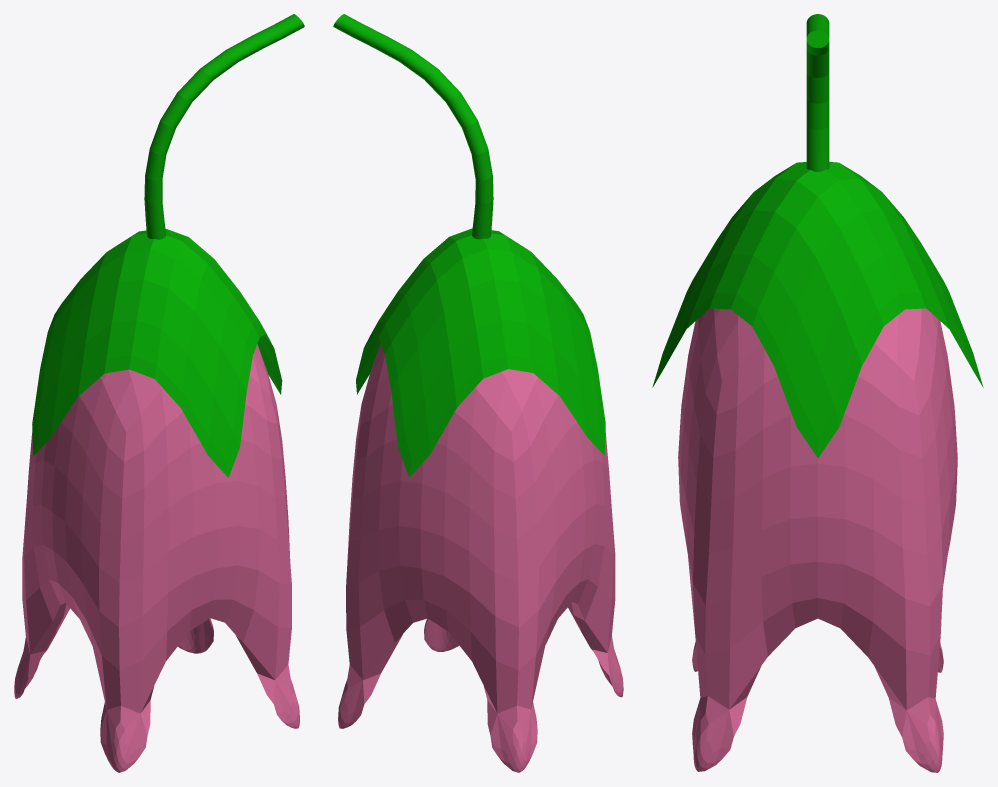
The model's file is ホタルブクロピンク色.fbx.
The picture shows the model from 3 angles, left to right: view 1: azimuth 30°, elevation 25°; view 2: azimuth 150°, elevation 25°; view 3: azimuth 270°, elevation 25°; orthographic projection. The views are drawn at different scales.
Visible parts, largest first — view 1: Cube.001, Cube, Cylinder; view 2: Cube.001, Cube, Cylinder; view 3: Cube.001, Cube, Cylinder.
Boxes of the visible parts, left/top/right/bottom form: Cube.001: left=14, top=344, right=299, bottom=772; Cube: left=32, top=228, right=282, bottom=477; Cylinder: left=144, top=14, right=304, bottom=239; Cube.001: left=338, top=344, right=623, bottom=772; Cube: left=356, top=228, right=605, bottom=477; Cylinder: left=333, top=14, right=493, bottom=239; Cube.001: left=678, top=308, right=957, bottom=772; Cube: left=652, top=162, right=983, bottom=457; Cylinder: left=806, top=14, right=829, bottom=171.
Size of the model in its own units: 337 by 797 by 311.
